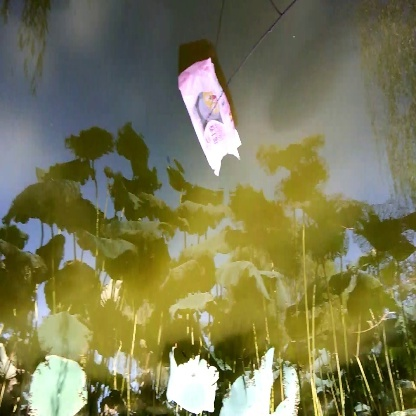plastic-bag: (178, 56, 249, 175)
